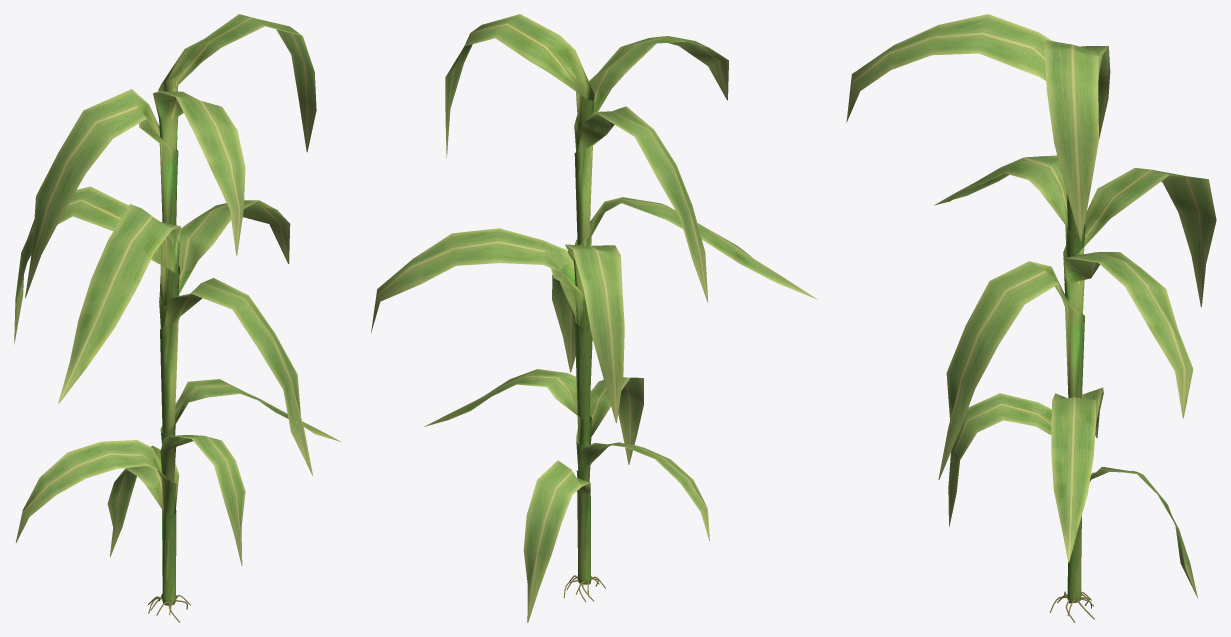
File: corn.dae
The picture shows the model from 3 angles, left to right: view 1: azimuth 30°, elevation 25°; view 2: azimuth 150°, elevation 25°; view 3: azimuth 270°, elevation 25°; orthographic projection. The views are drawn at different scales.
Visible parts, largest first — view 1: Plane.016, Plane.013, Plane.012, Plane.019, Plane.011, Plane.018, Plane.015, Plane.008, Plane.014, Plane.010, Plane.009; view 2: Plane.015, Plane.016, Plane.008, Plane.014, Plane.018, Plane.019, Plane.012, Plane.013, Plane.010, Plane.009, Plane.011; view 3: Plane.012, Plane.018, Plane.019, Plane.014, Plane.015, Plane.009, Plane.010, Plane.013, Plane.008, Plane.016.
Part boxes in pixels (x1=…): Plane.016: x1=25, y1=89, x2=178, y2=297; Plane.013: x1=58, y1=204, x2=180, y2=403; Plane.012: x1=160, y1=278, x2=312, y2=475; Plane.019: x1=153, y1=91, x2=245, y2=255; Plane.011: x1=15, y1=440, x2=176, y2=542; Plane.018: x1=158, y1=14, x2=316, y2=152; Plane.015: x1=159, y1=200, x2=290, y2=328; Plane.008: x1=107, y1=445, x2=179, y2=605; Plane.014: x1=14, y1=186, x2=179, y2=343; Plane.010: x1=160, y1=435, x2=245, y2=565; Plane.009: x1=160, y1=379, x2=341, y2=444; Plane.015: x1=371, y1=228, x2=589, y2=332; Plane.016: x1=574, y1=106, x2=708, y2=302; Plane.008: x1=523, y1=460, x2=591, y2=622; Plane.014: x1=565, y1=244, x2=624, y2=422; Plane.018: x1=445, y1=14, x2=594, y2=157; Plane.019: x1=574, y1=36, x2=728, y2=151; Plane.012: x1=552, y1=251, x2=592, y2=422; Plane.013: x1=575, y1=197, x2=817, y2=299; Plane.010: x1=576, y1=377, x2=643, y2=469; Plane.009: x1=424, y1=369, x2=591, y2=445; Plane.011: x1=576, y1=442, x2=709, y2=541; Plane.012: x1=938, y1=261, x2=1084, y2=479; Plane.018: x1=1044, y1=40, x2=1098, y2=240; Plane.019: x1=846, y1=14, x2=1052, y2=122; Plane.014: x1=1063, y1=168, x2=1216, y2=306; Plane.015: x1=1063, y1=252, x2=1193, y2=418; Plane.009: x1=1051, y1=393, x2=1095, y2=562; Plane.010: x1=948, y1=393, x2=1051, y2=526; Plane.013: x1=934, y1=155, x2=1085, y2=256; Plane.008: x1=1067, y1=466, x2=1197, y2=603; Plane.016: x1=1066, y1=46, x2=1110, y2=234.
Size of the model in its own units: 0.9752 by 0.8539 by 1.54.
